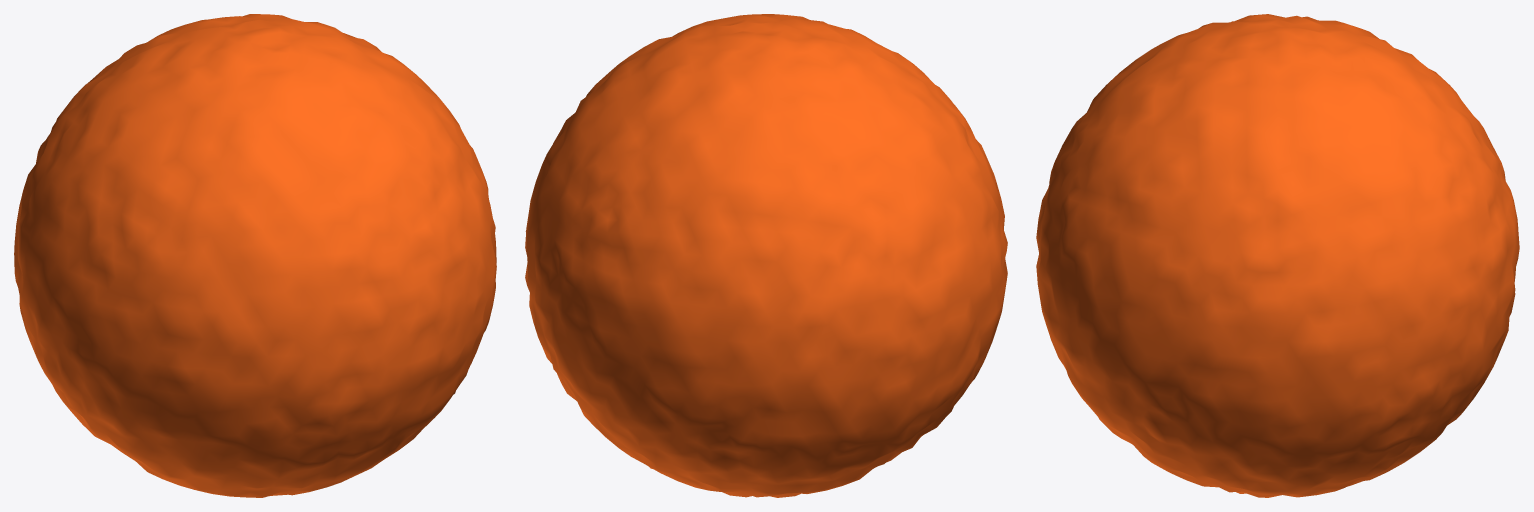
The model's file is hypernova.glb.
3 renders of one model, left to right at view 1: azimuth 30°, elevation 25°; view 2: azimuth 150°, elevation 25°; view 3: azimuth 270°, elevation 25°, orthographic.
Parts seen in each view (by area): view 1: Icosphere_0; view 2: Icosphere_0; view 3: Icosphere_0.
Part boxes in pixels (box(x1,y1,x2,y2)): Icosphere_0: box(14, 14, 496, 497); Icosphere_0: box(525, 14, 1007, 497); Icosphere_0: box(1036, 14, 1519, 497).
Bounding box in the file's own units: 12.56 × 12.59 × 12.57.
